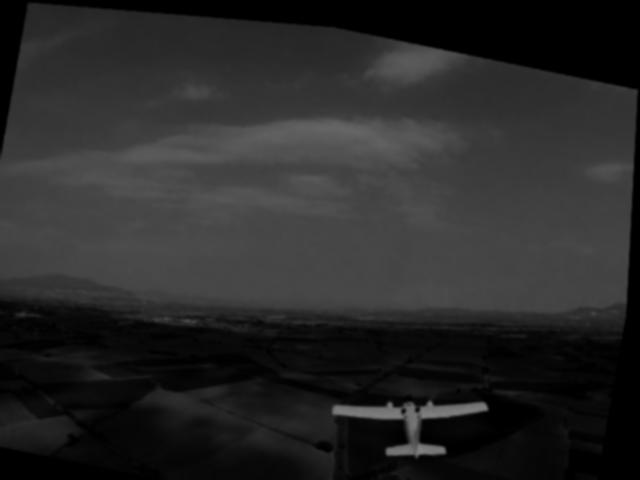hedef: (319, 346, 501, 471)
